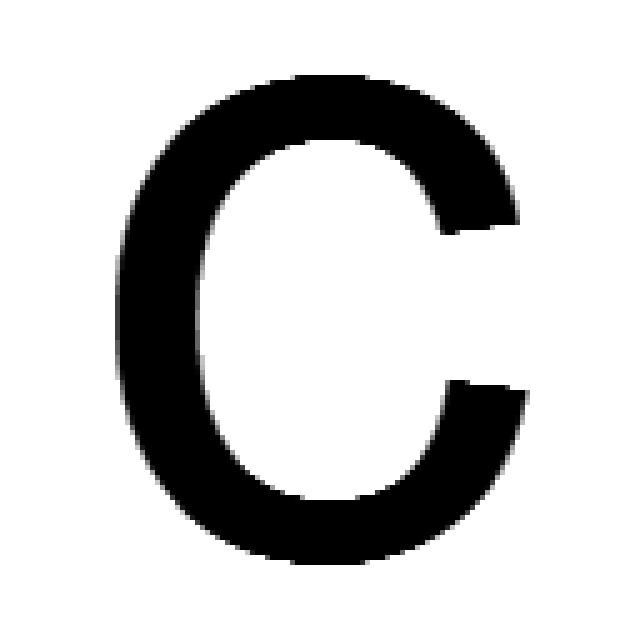C: (115, 75, 530, 565)
